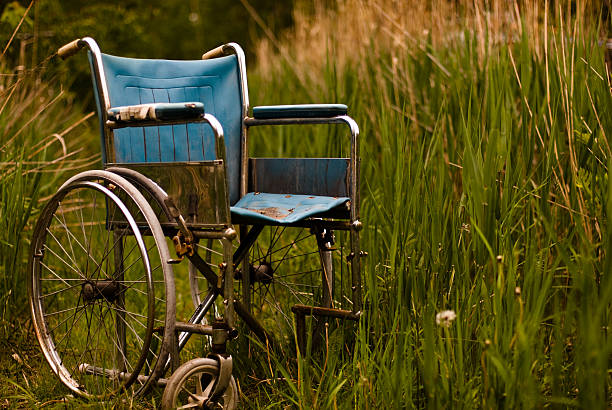wheel_chair: (25, 34, 372, 410)
